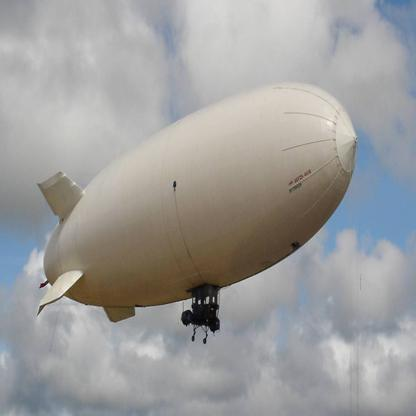Airship: (27, 84, 364, 351)
